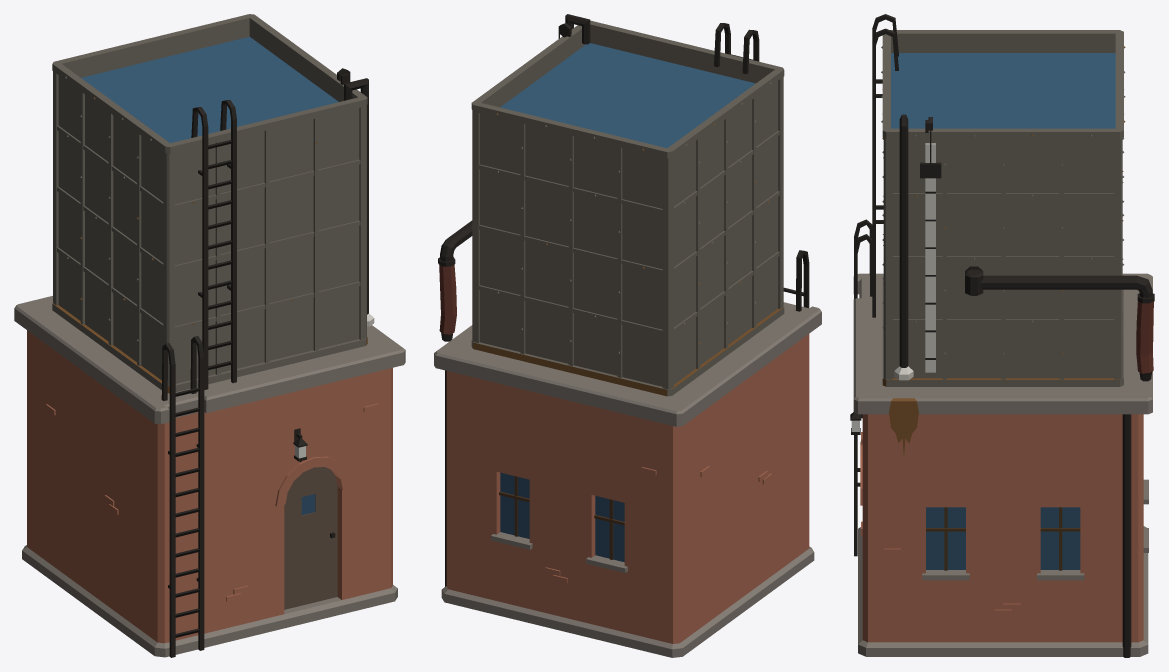
File: water-tower-dd6200.glb
The picture shows the model from 3 angles, left to right: view 1: azimuth 30°, elevation 25°; view 2: azimuth 150°, elevation 25°; view 3: azimuth 270°, elevation 25°; orthographic projection. The views are drawn at different scales.
Parts seen in each view (by area): view 1: tower; view 2: tower, hose-mesh, spout-arm; view 3: tower, spout-arm, hose-mesh.
Boxes of the visible parts, <box> form: tower: <box>14,14,405,657</box>; tower: <box>434,14,821,657</box>; hose-mesh: <box>439,264,456,341</box>; spout-arm: <box>438,220,472,266</box>; tower: <box>850,14,1152,657</box>; spout-arm: <box>980,275,1154,303</box>; hose-mesh: <box>1136,301,1153,381</box>.
Bounding box in the file's own units: 3.92 × 7.89 × 3.98.
